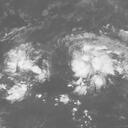cyclone: (70, 32, 126, 96)
